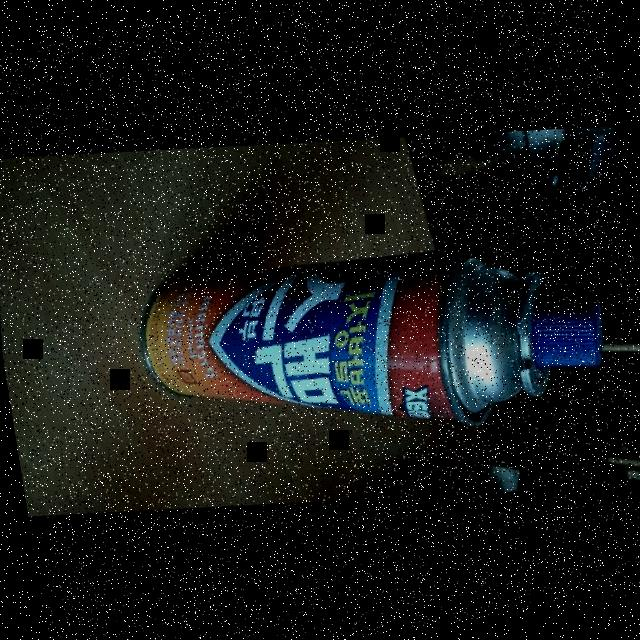chemical_spray_can: (95, 169, 632, 498)
